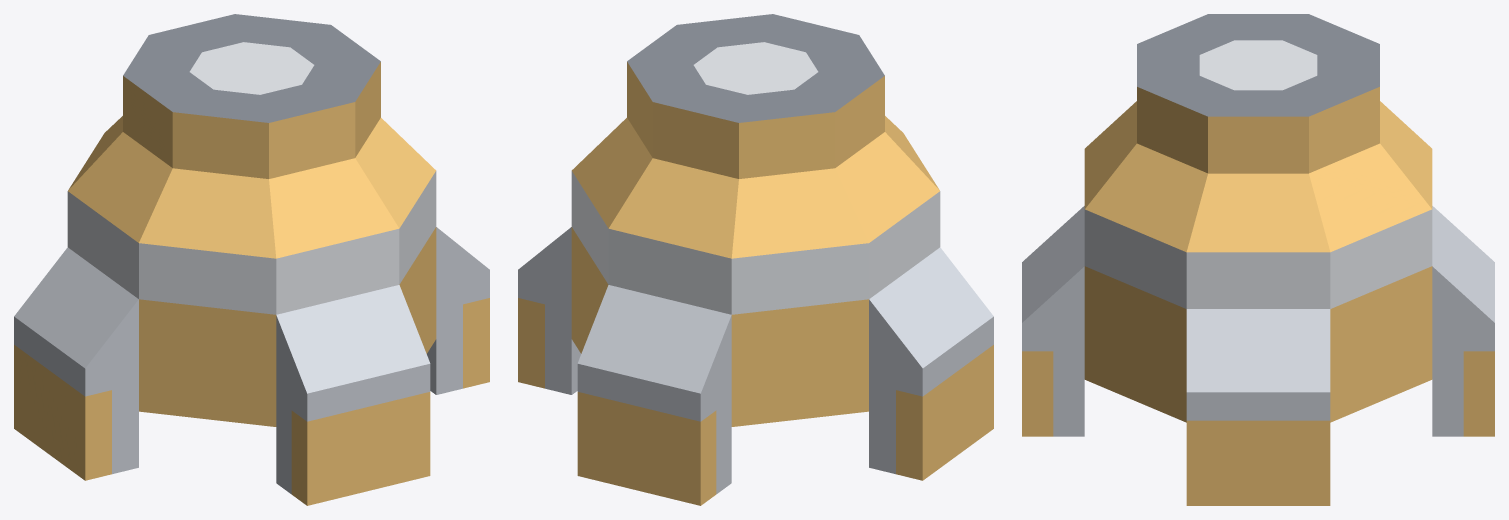
Rendered from machine_barrelLarge.glb.
3 renders of one model, left to right at view 1: azimuth 30°, elevation 25°; view 2: azimuth 150°, elevation 25°; view 3: azimuth 270°, elevation 25°, orthographic.
Visible parts, largest first — view 1: machine_barrelLarge; view 2: machine_barrelLarge; view 3: machine_barrelLarge.
Part boxes in pixels (x1,y1,x2,y2): machine_barrelLarge: (14,14,489,505); machine_barrelLarge: (518,14,993,505); machine_barrelLarge: (1022,14,1494,505).
Size of the model in its own units: 0.7543 by 0.6 by 0.7543.
